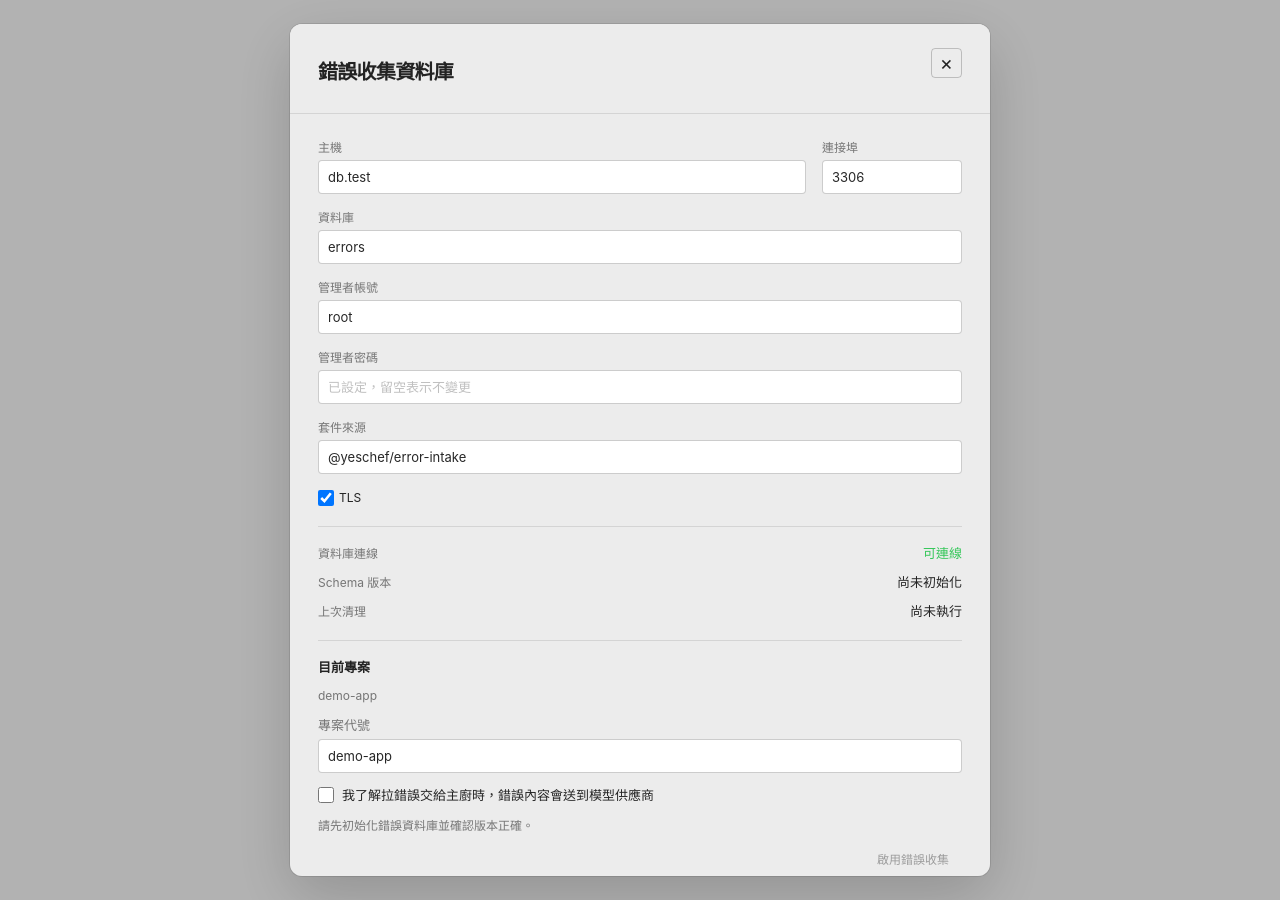
Test: 初始化成功後不用重開對話框，啟用按鈕就能按
The width and height of the screenshot is (1280, 900).
Click the checkbox labelled "我了解拉錯誤交給主廚時，錯誤內容會送到模型供應商" at point(326, 795), box x1=318 y1=787 x2=334 y2=803
(page scrolled)
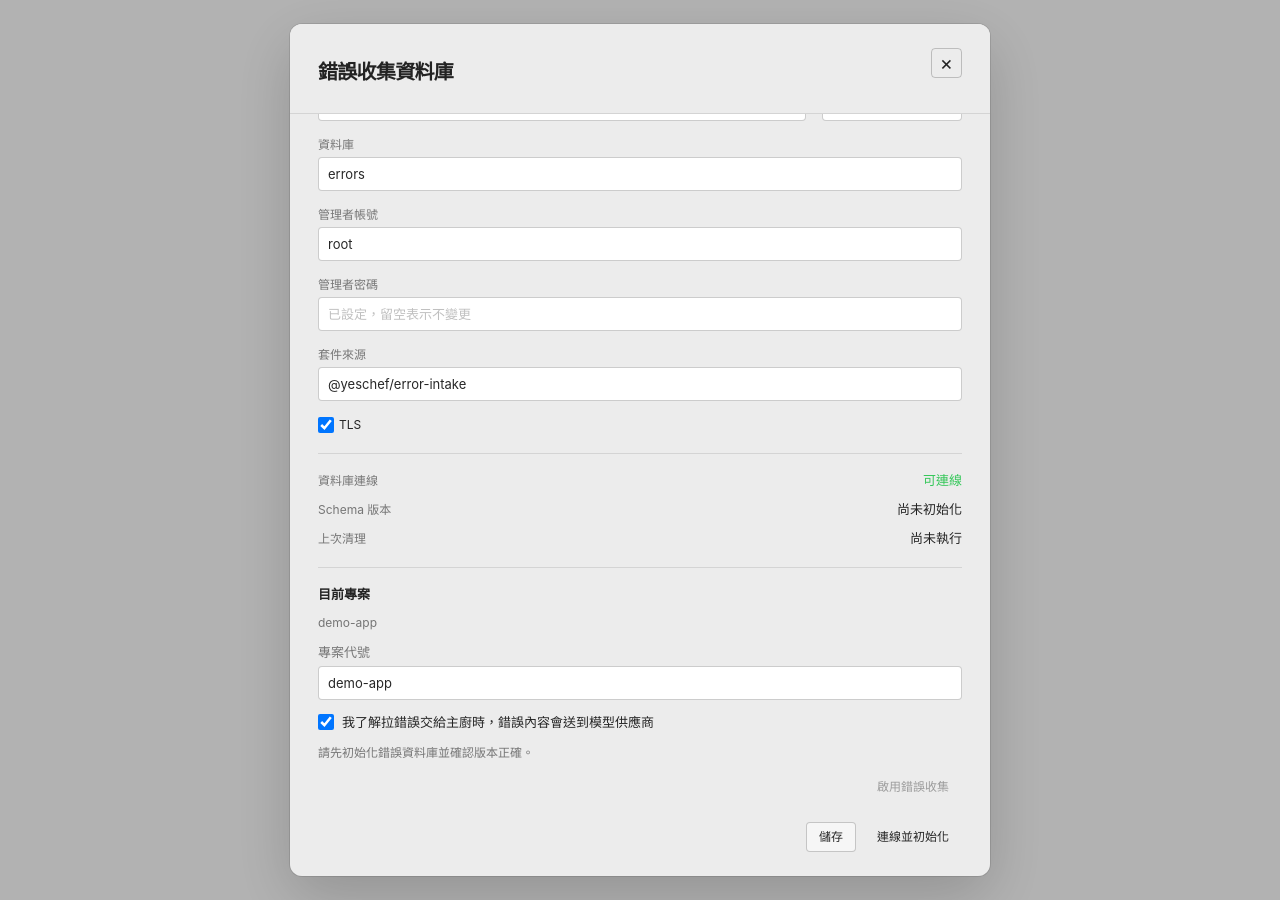
Expected: the button "啟用錯誤收集" is disabled, x1=864 y1=772 x2=962 y2=802
Click the button "連線並初始化" at point(913, 837), box x1=864 y1=822 x2=962 y2=852
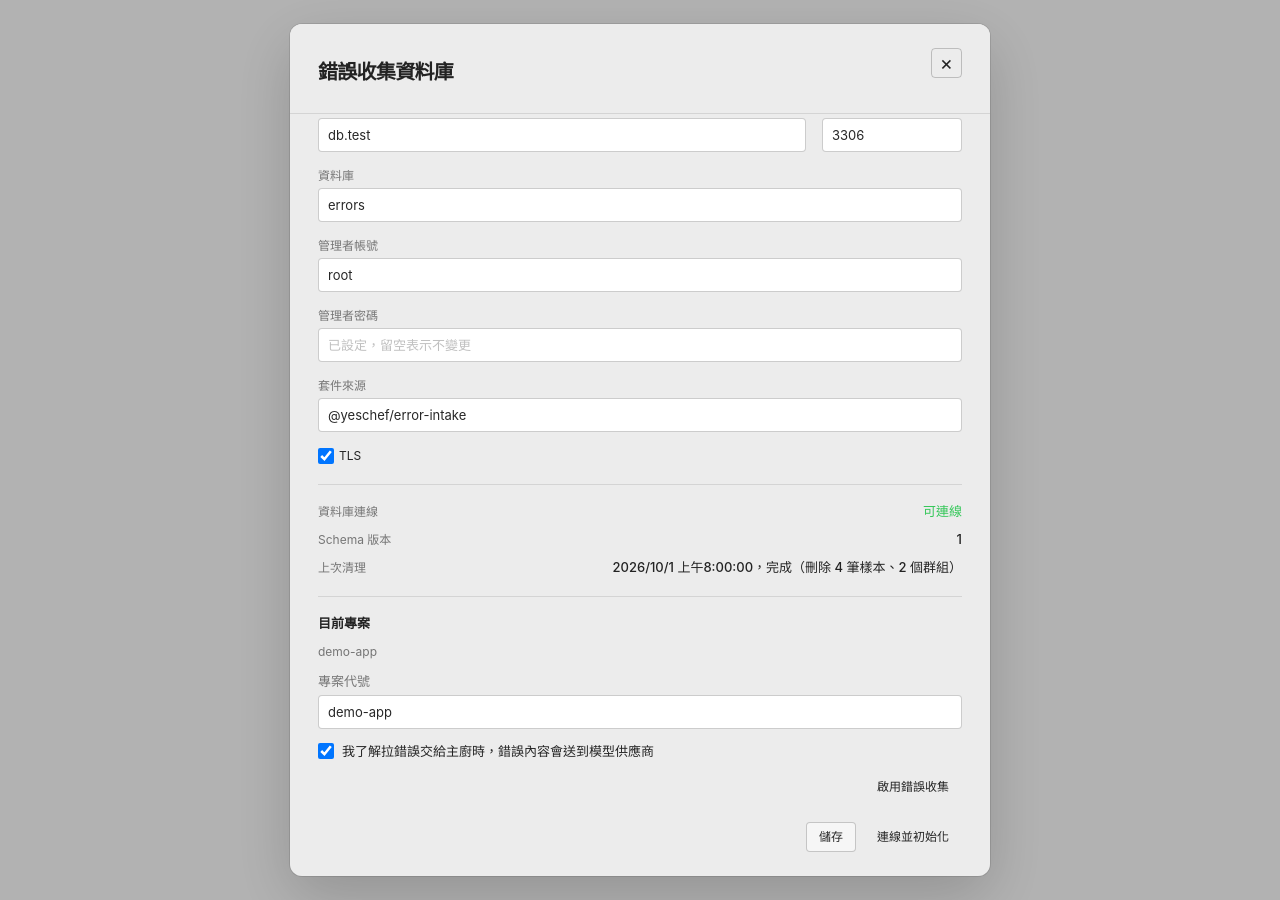
Expected: the button "啟用錯誤收集" is enabled, x1=864 y1=772 x2=962 y2=802
